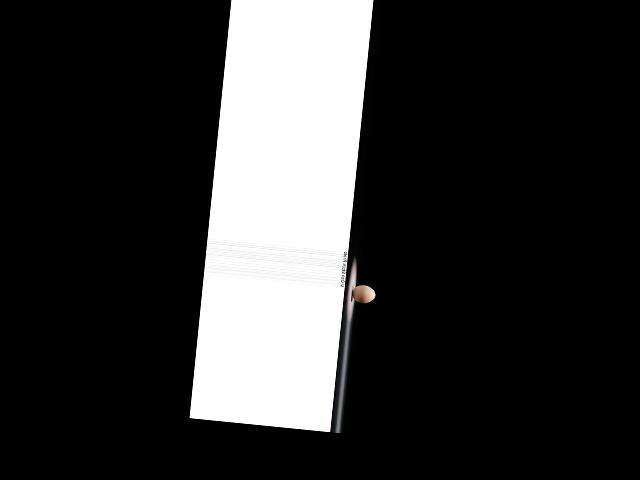egg: (351, 283, 375, 304)
